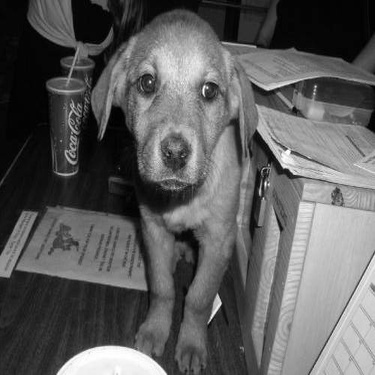dog: (81, 5, 264, 371)
